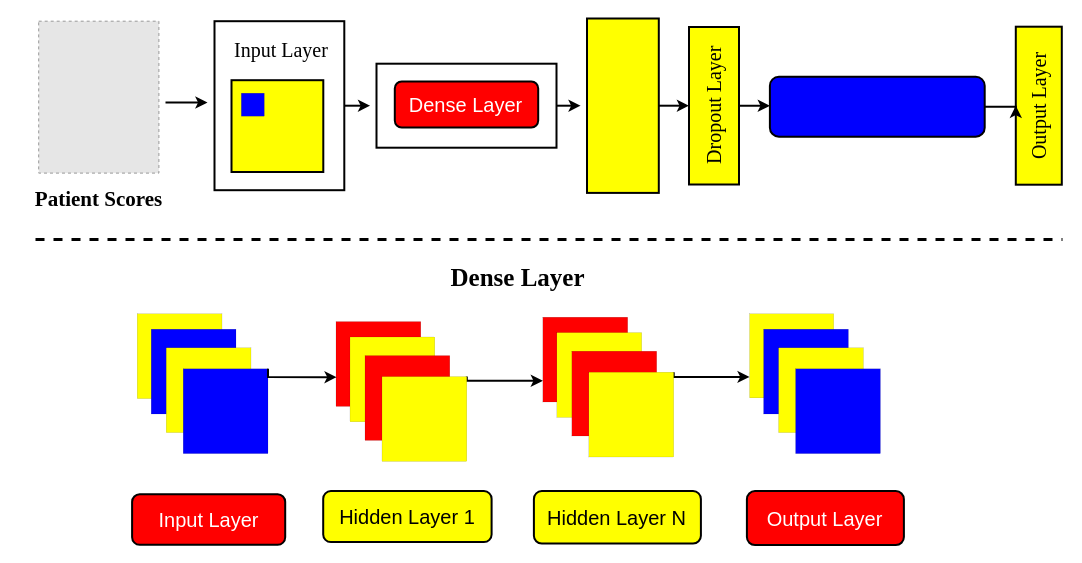
The diagram is 1082 pixels wide and 563 high, and some of its shapes have lost their labels. Grey dashed boxes stand in for pictures. The box of each missing label's shape, as (x1, y1, x2, y2) in pixels:
Batch Normalization: (586, 17, 659, 193)
Residual Connection: (768, 75, 985, 137)
